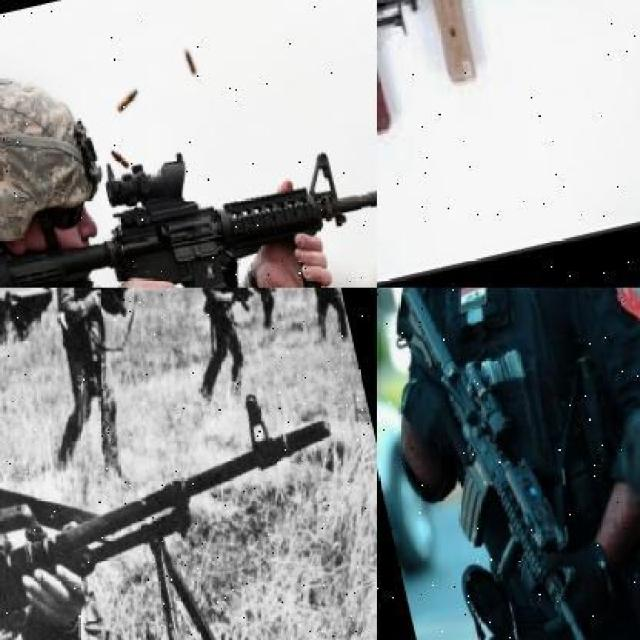weapon: (377, 269, 606, 638), (0, 130, 398, 289)
